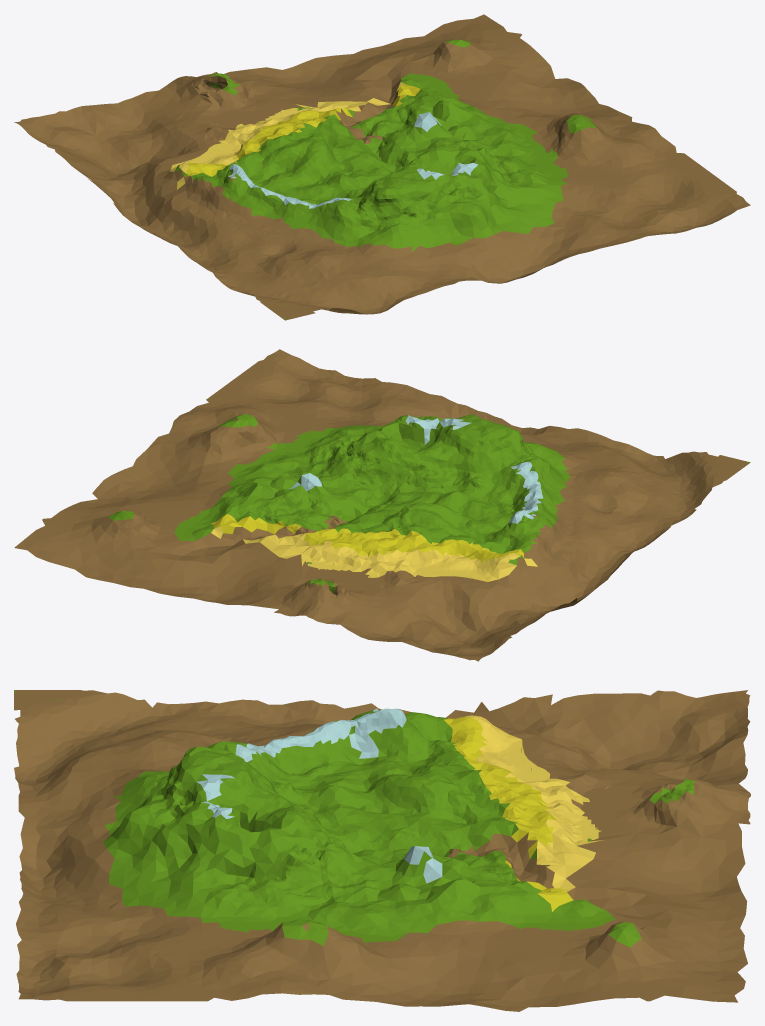
Rendered from terrain2a.fbx.
The picture shows the model from 3 angles, top to bottom: view 1: azimuth 30°, elevation 25°; view 2: azimuth 150°, elevation 25°; view 3: azimuth 270°, elevation 25°; orthographic projection. The views are drawn at different scales.
Visible parts, largest first — view 1: Grid; view 2: Grid; view 3: Grid.
Boxes of the visible parts, x1,y1,x2,y2 form: Grid: (14, 14, 750, 320); Grid: (14, 349, 750, 661); Grid: (14, 690, 750, 1011).
Bounding box in the file's own units: 2000 × 285 × 2002.
